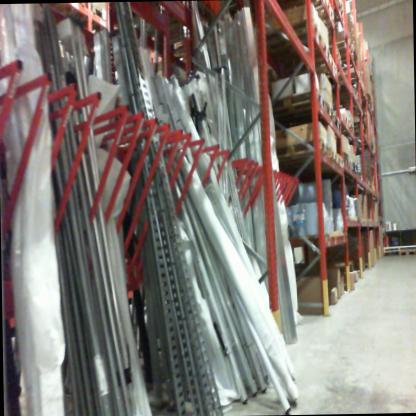pallet: (260, 31, 330, 71), (269, 18, 322, 59), (263, 86, 328, 115), (280, 56, 339, 84), (273, 134, 329, 162), (283, 144, 339, 168), (50, 5, 112, 25), (293, 115, 344, 134), (309, 1, 335, 28), (310, 152, 344, 171), (328, 0, 350, 19), (400, 244, 416, 260), (325, 98, 335, 121)
